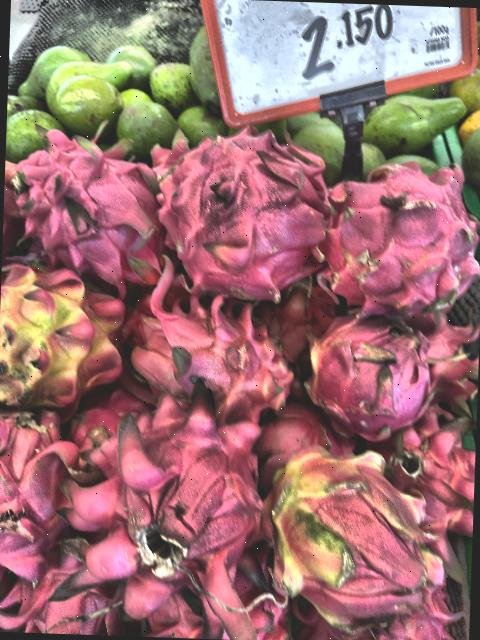buah-naga-belum-matang: (270, 437, 451, 634), (0, 259, 133, 410)
buah-naga-matang: (80, 399, 275, 603), (141, 128, 340, 306), (311, 144, 480, 321), (128, 276, 310, 424), (2, 117, 160, 276), (303, 298, 438, 442)
